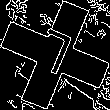L_SW: (31, 26, 79, 84)
